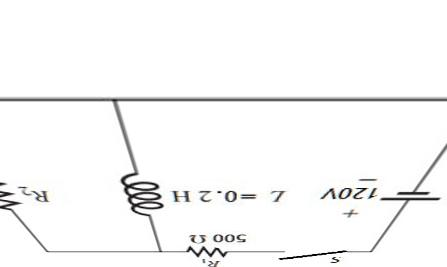inductor: (113, 165, 165, 222)
